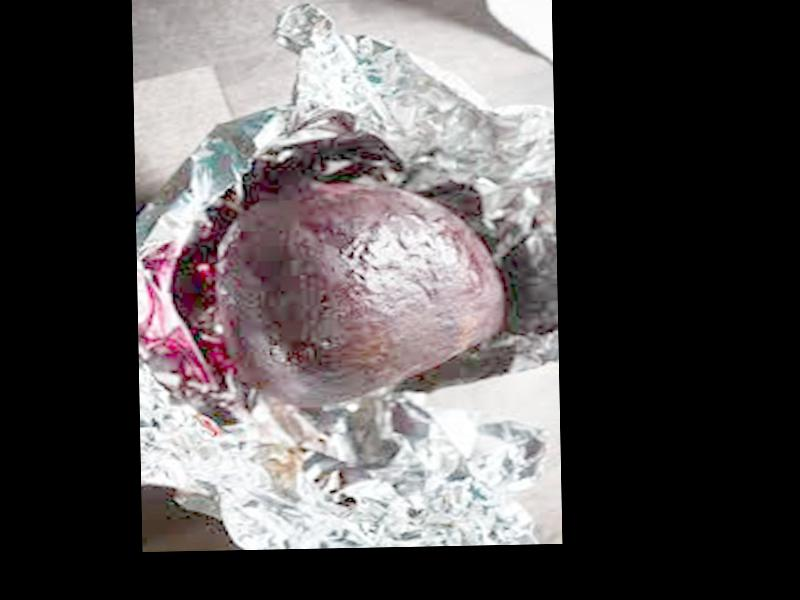Beet: (226, 175, 507, 409)
